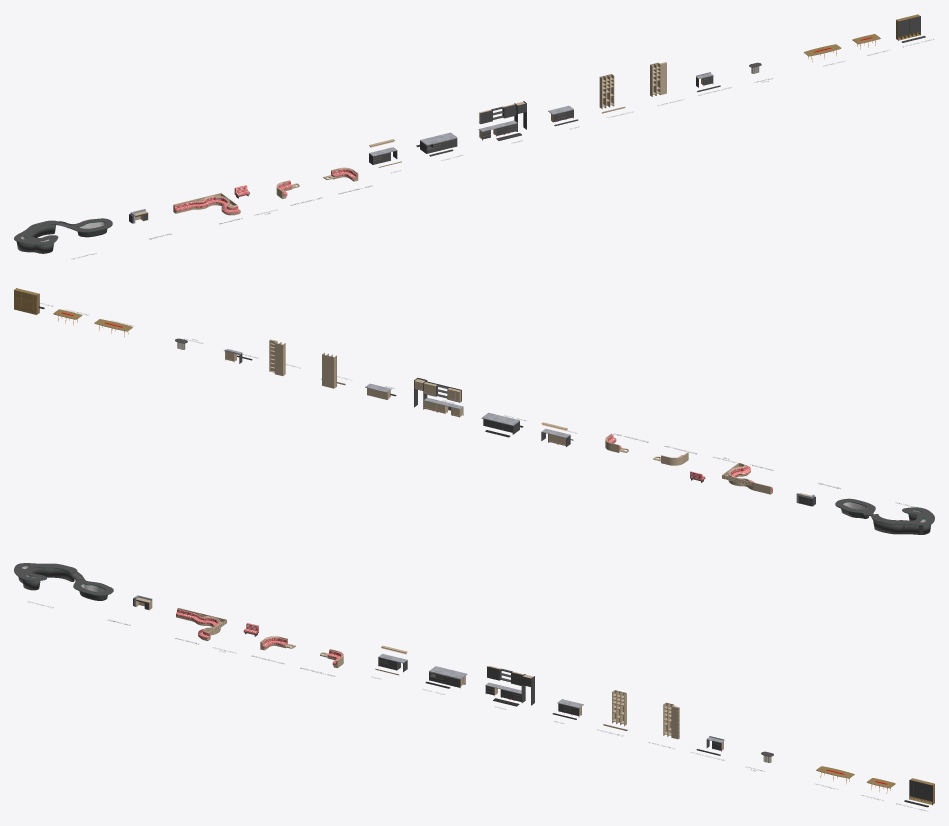
3 views of the same model, one above another, from view 1: azimuth 30°, elevation 25°; view 2: azimuth 150°, elevation 25°; view 3: azimuth 330°, elevation 25° (orthographic). The views are drawn at different scales.
Size of the model in its own units: 93.78 by 3.3 by 6.74.
Materials: 12 (7 with a texture image).
